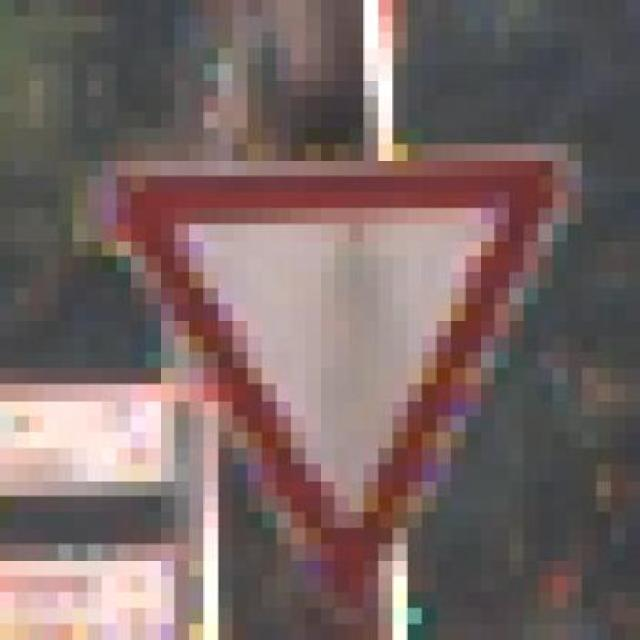Give Way: (58, 128, 612, 608)
